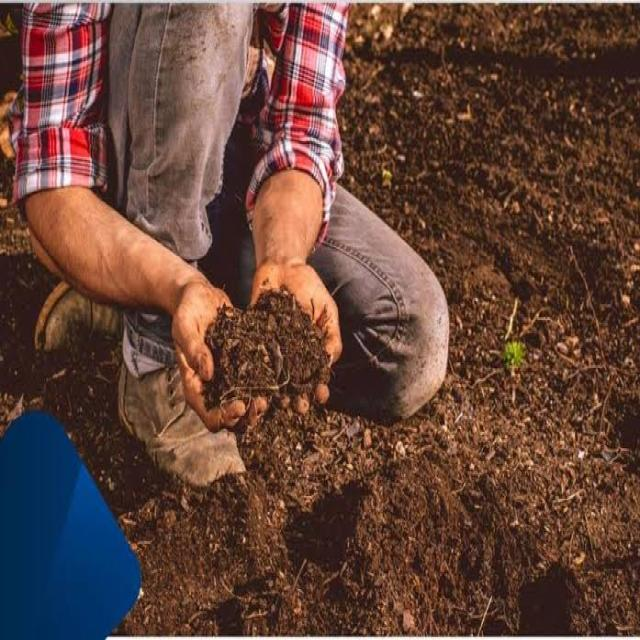suelo_humedo: (78, 281, 636, 621)
